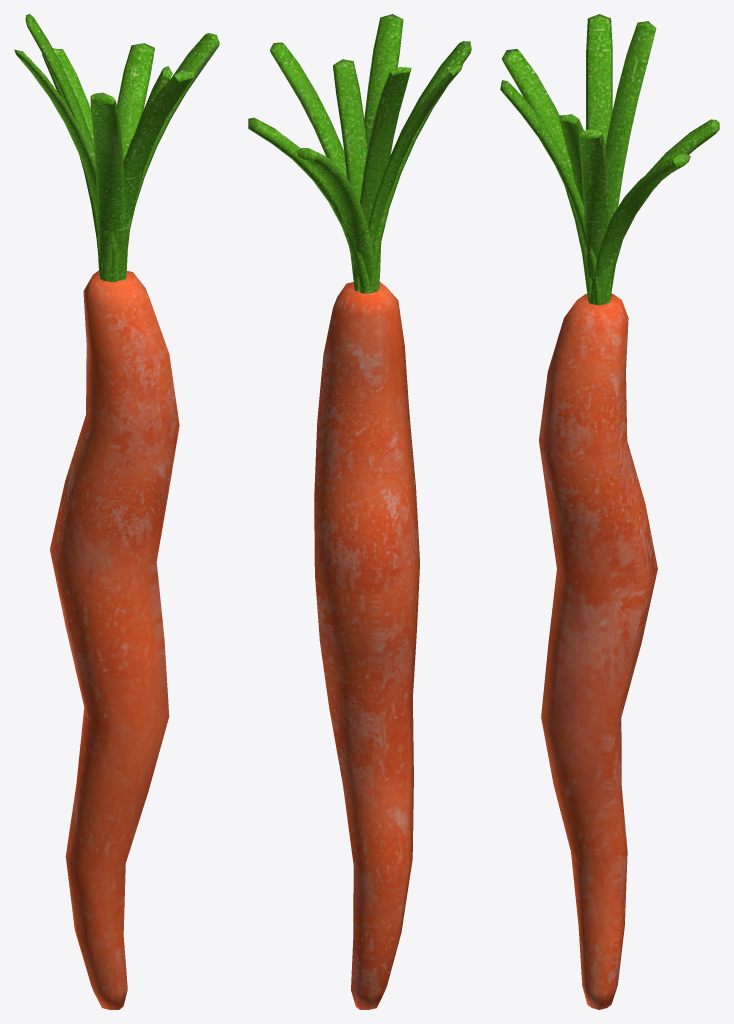
The model's file is Carrots.FBX.
3 views of the same model, side by side, from view 1: azimuth 30°, elevation 25°; view 2: azimuth 150°, elevation 25°; view 3: azimuth 270°, elevation 25° (orthographic). The views are drawn at different scales.
Visible parts, largest first — view 1: Carrots; view 2: Carrots; view 3: Carrots.
Part boxes in pixels (bbox=[...]): Carrots: bbox=[14, 14, 219, 1009]; Carrots: bbox=[248, 14, 471, 1009]; Carrots: bbox=[500, 14, 719, 1009].
Bounding box in the file's own units: 12.42 × 60.03 × 12.51.
